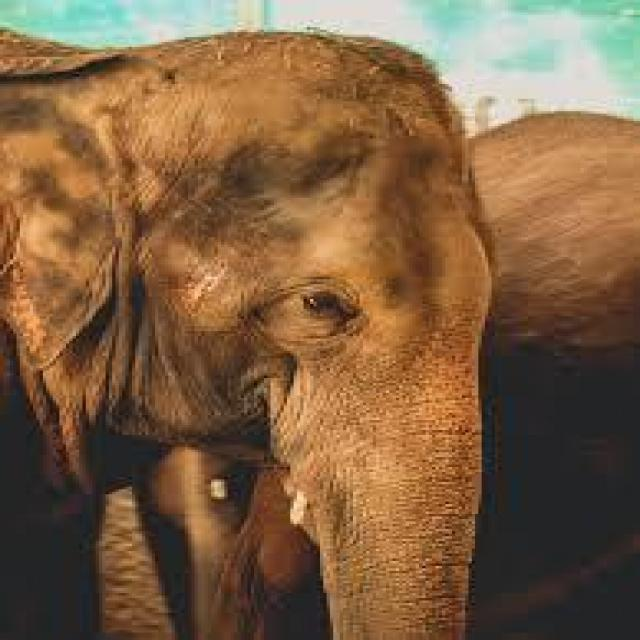Elephant: (0, 32, 488, 638)
